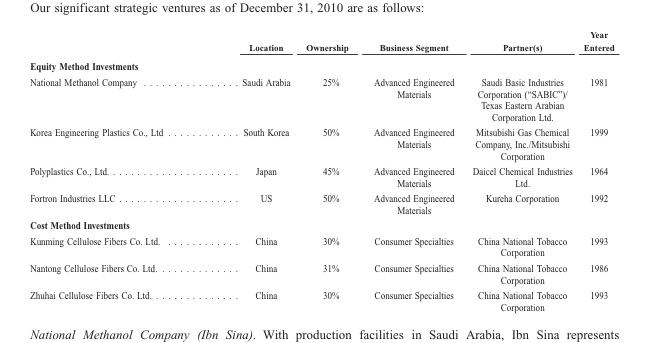table: (29, 29, 613, 311)
table column: (29, 29, 201, 311), (462, 29, 577, 311), (360, 29, 462, 311), (201, 29, 297, 311), (297, 29, 360, 311), (577, 29, 613, 311)
table column header: (29, 29, 613, 56)
table projected row header: (29, 56, 613, 73), (29, 217, 613, 232)
table row: (29, 73, 613, 124), (29, 124, 613, 162), (29, 189, 613, 217), (29, 29, 613, 56), (29, 162, 613, 189), (29, 232, 613, 259), (29, 259, 613, 286), (29, 286, 613, 311), (29, 56, 613, 73), (29, 217, 613, 232)
